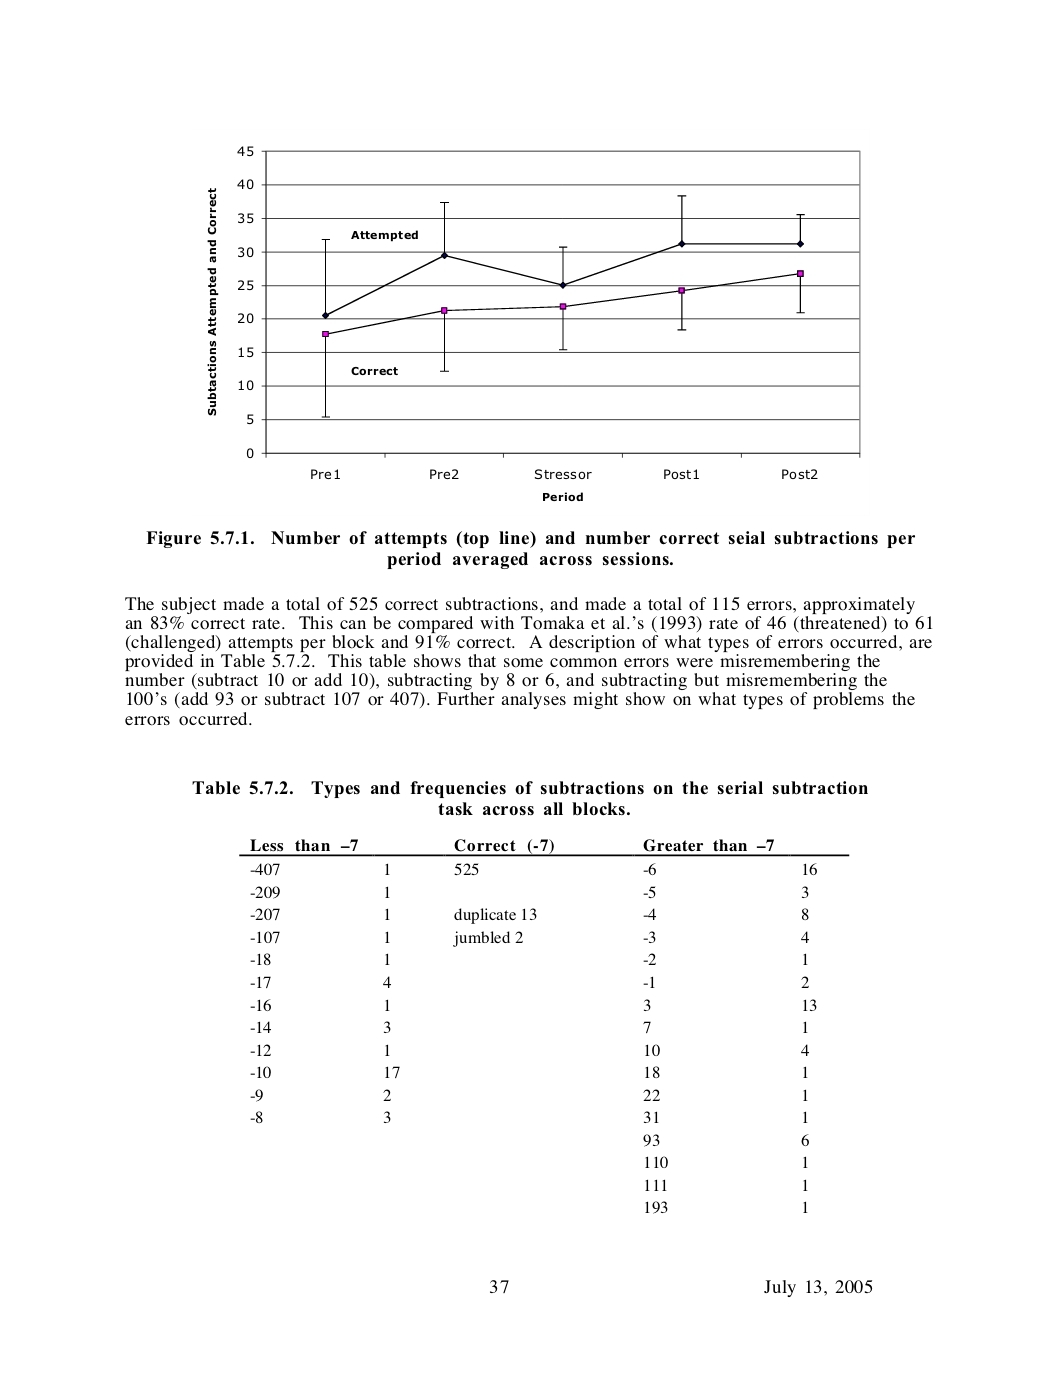Table: (239, 839, 849, 1213)
figure: (207, 146, 860, 502)
